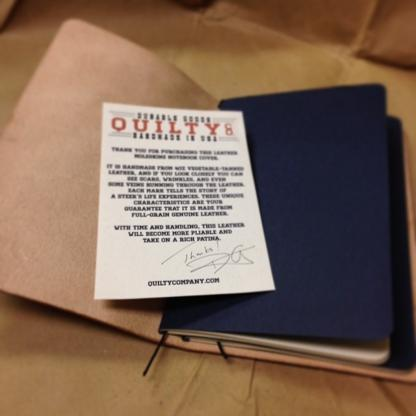book: (0, 11, 415, 387)
